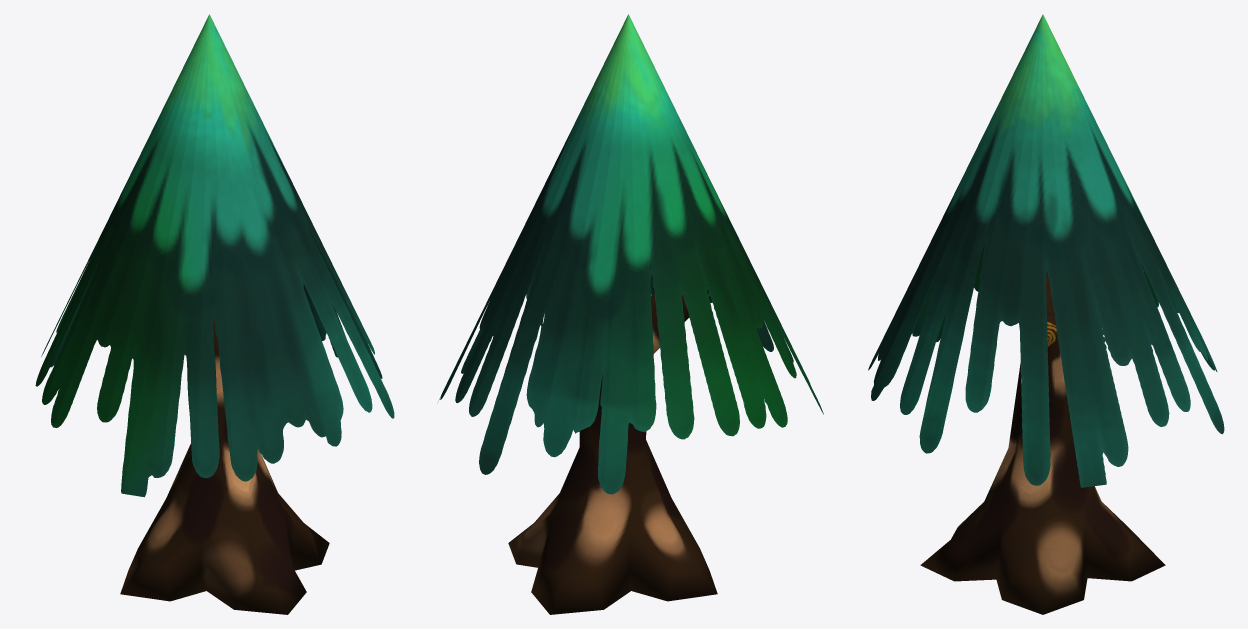
Rendered from pine_seedling.glb.
3 renders of one model, left to right at view 1: azimuth 30°, elevation 25°; view 2: azimuth 150°, elevation 25°; view 3: azimuth 270°, elevation 25°, orthographic. The views are drawn at different scales.
Visible parts, largest first — view 1: Root; view 2: Root; view 3: Root.
Boxes of the visible parts, x1,y1,x2,y2 form: Root: (35, 14, 394, 614); Root: (438, 14, 823, 614); Root: (868, 14, 1224, 614).
Size of the model in its own units: 5.32 by 8.37 by 5.32.
1 material, 1 textured.
